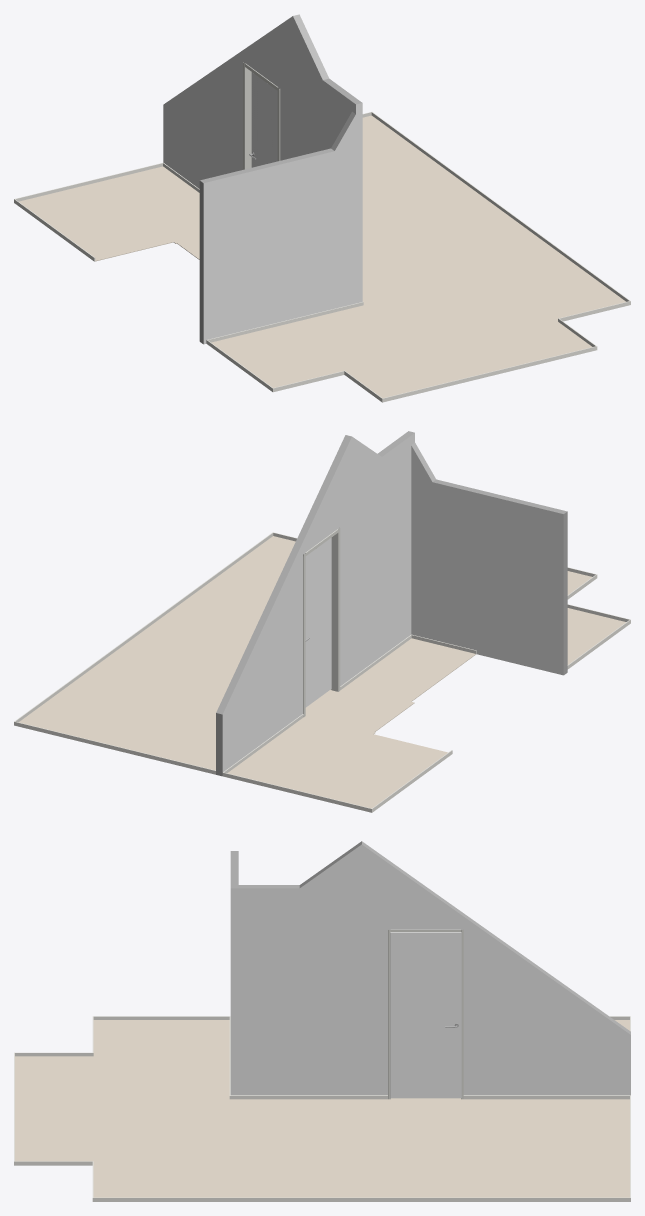
The picture shows the model from 3 angles, top to bottom: view 1: azimuth 30°, elevation 25°; view 2: azimuth 150°, elevation 25°; view 3: azimuth 270°, elevation 25°; orthographic projection. The views are drawn at different scales.
Parts seen in each view (by area): view 1: [8688629]43_Vloerafwerking, [8688696]22_MS 100mm GF 100/1.75.1.A, [8688680]22_MS 100mm GF 100/1.75.1.A, [8688653]43_Vloerplint 12x55mm, [8688681]merk i.sp, [8688667]43_Vloerplint 12x55mm; view 2: [8688629]43_Vloerafwerking, [8688680]22_MS 100mm GF 100/1.75.1.A, [8688696]22_MS 100mm GF 100/1.75.1.A, [8688681]merk i.sp, [8688653]43_Vloerplint 12x55mm, [8688667]43_Vloerplint 12x55mm; view 3: [8688629]43_Vloerafwerking, [8688680]22_MS 100mm GF 100/1.75.1.A, [8688681]merk i.sp, [8688653]43_Vloerplint 12x55mm.
Part boxes in pixels (x1,y1,x2,y2): [8688629]43_Vloerafwerking: (19, 115, 625, 398); [8688696]22_MS 100mm GF 100/1.75.1.A: (199, 111, 355, 344); [8688680]22_MS 100mm GF 100/1.75.1.A: (163, 14, 362, 303); [8688653]43_Vloerplint 12x55mm: (206, 112, 630, 402); [8688681]merk i.sp: (243, 62, 280, 169); [8688667]43_Vloerplint 12x55mm: (14, 162, 199, 261); [8688629]43_Vloerafwerking: (19, 536, 625, 808); [8688680]22_MS 100mm GF 100/1.75.1.A: (216, 431, 414, 776); [8688696]22_MS 100mm GF 100/1.75.1.A: (411, 443, 567, 675); [8688681]merk i.sp: (303, 527, 340, 716); [8688653]43_Vloerplint 12x55mm: (14, 532, 630, 774); [8688667]43_Vloerplint 12x55mm: (222, 634, 476, 812); [8688629]43_Vloerafwerking: (15, 1020, 629, 1197); [8688680]22_MS 100mm GF 100/1.75.1.A: (230, 841, 630, 1095); [8688681]merk i.sp: (388, 929, 463, 1099); [8688653]43_Vloerplint 12x55mm: (14, 1016, 630, 1201).
Size of the model in its own units: 5.5 by 3.57 by 7.82.
